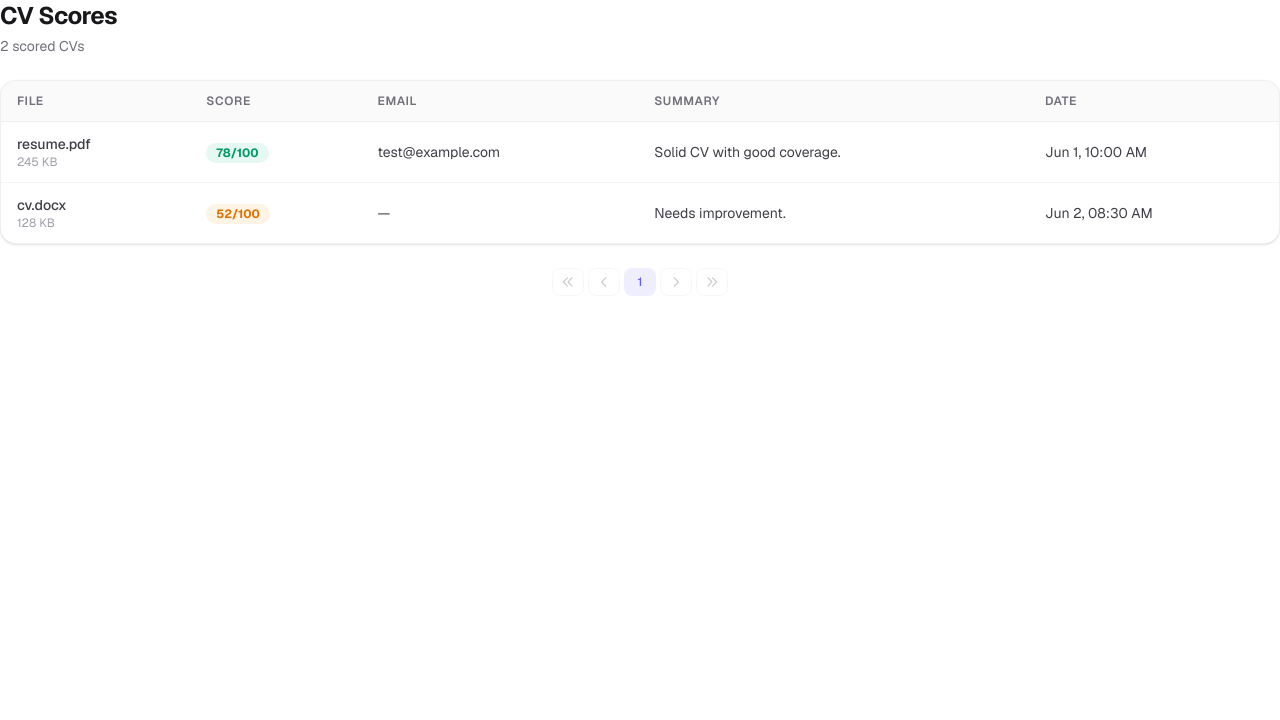
CVScoresPage › opens detail modal when row is clicked
Click the text "78/100" at (238, 152), box [206, 142, 269, 162]
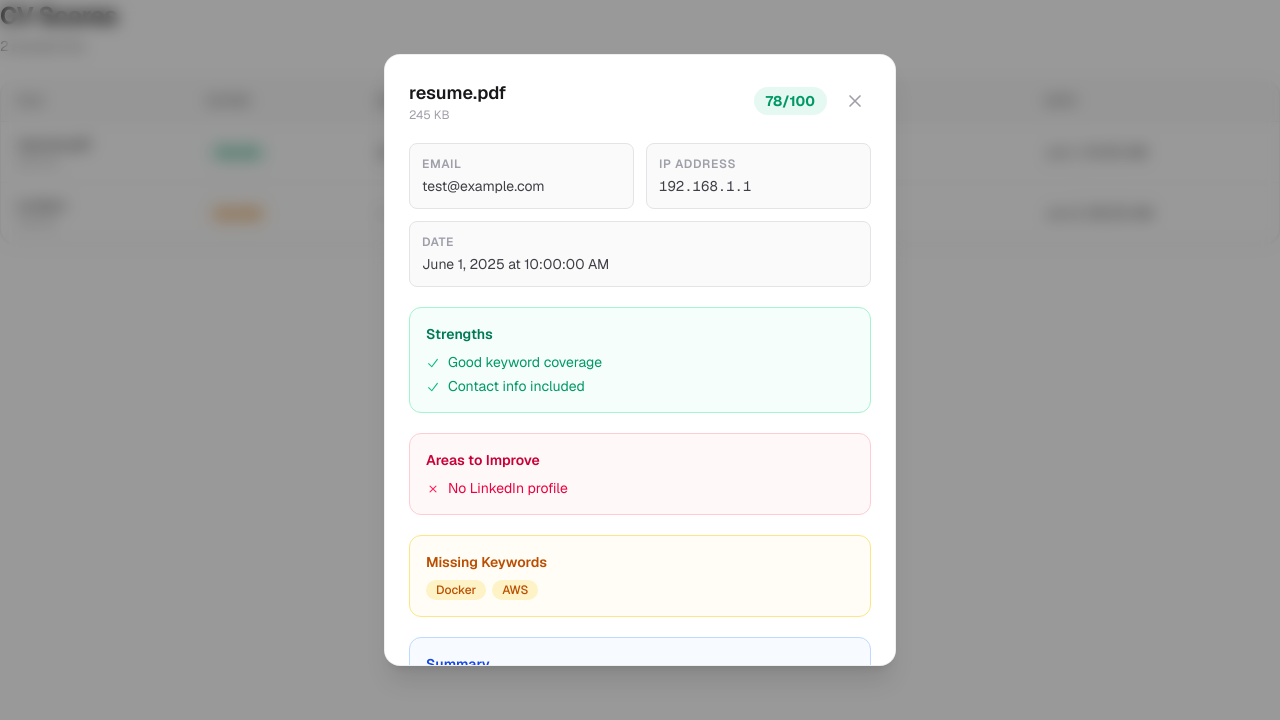
Result: the text "Strengths" is shown at [426, 325, 493, 343]
Result: the list item "Good keyword coverage" is shown at [426, 353, 602, 371]
Result: the text "Areas to Improve" is shown at [426, 451, 540, 469]
